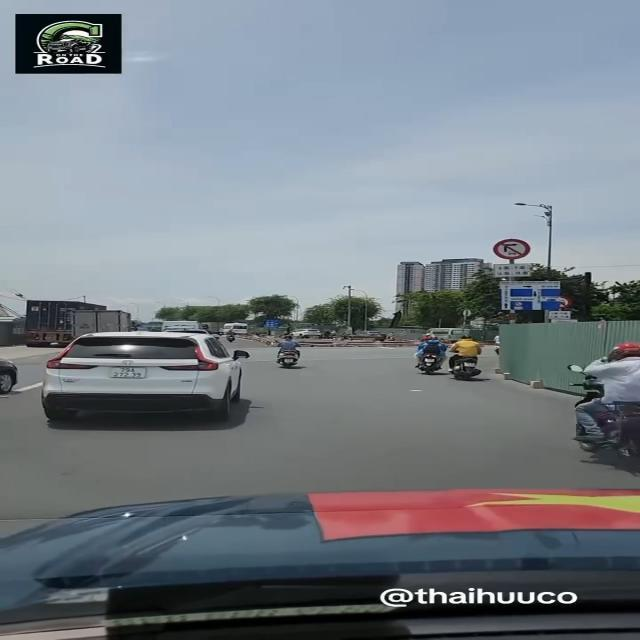123b-cam-re-phai: (493, 238, 531, 260)
